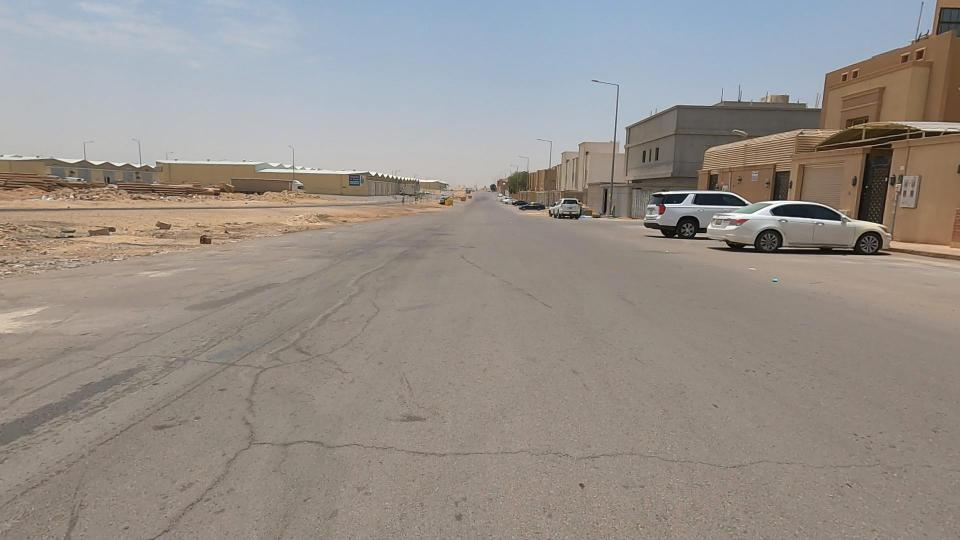GARBAGE: (58, 169, 119, 221), (20, 179, 86, 216)
